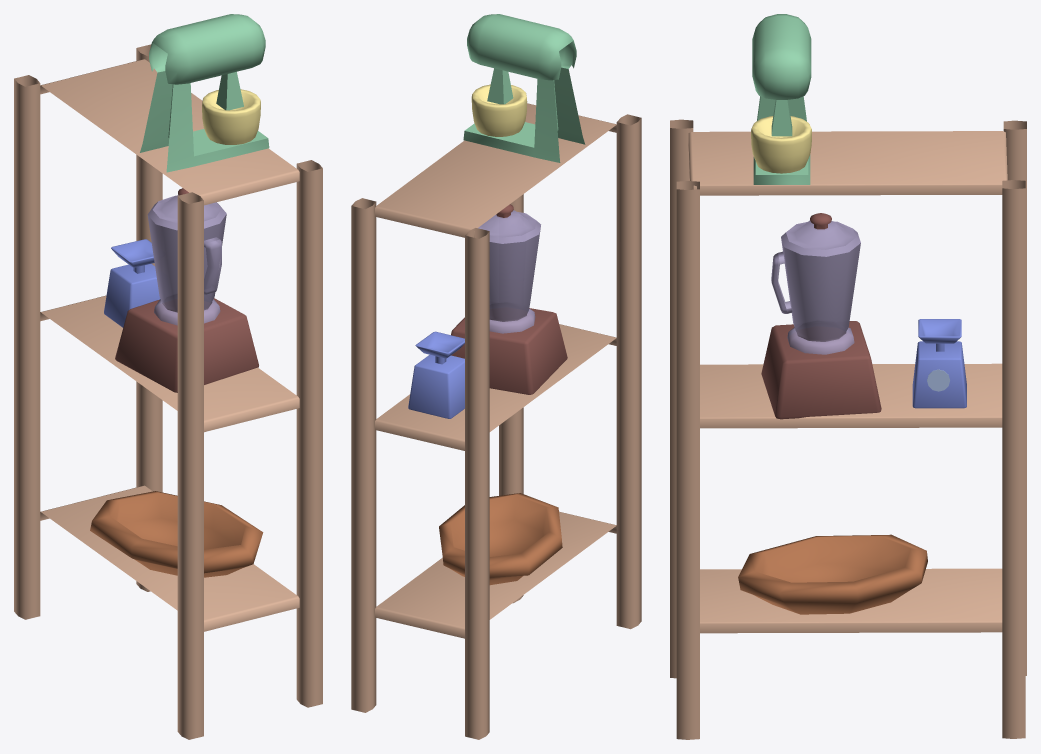
The model's file is Gabinete.glb.
3 renders of one model, left to right at view 1: azimuth 30°, elevation 25°; view 2: azimuth 150°, elevation 25°; view 3: azimuth 270°, elevation 25°, orthographic. The views are drawn at different scales.
Parts seen in each view (by area): view 1: Gabinete; view 2: Gabinete; view 3: Gabinete.
Boxes of the visible parts, x1=… form: Gabinete: x1=14, y1=14, x2=322, y2=739; Gabinete: x1=351, y1=14, x2=641, y2=739; Gabinete: x1=670, y1=14, x2=1026, y2=739.
Bounding box in the file's own units: 1.26 × 5.58 × 2.68.
